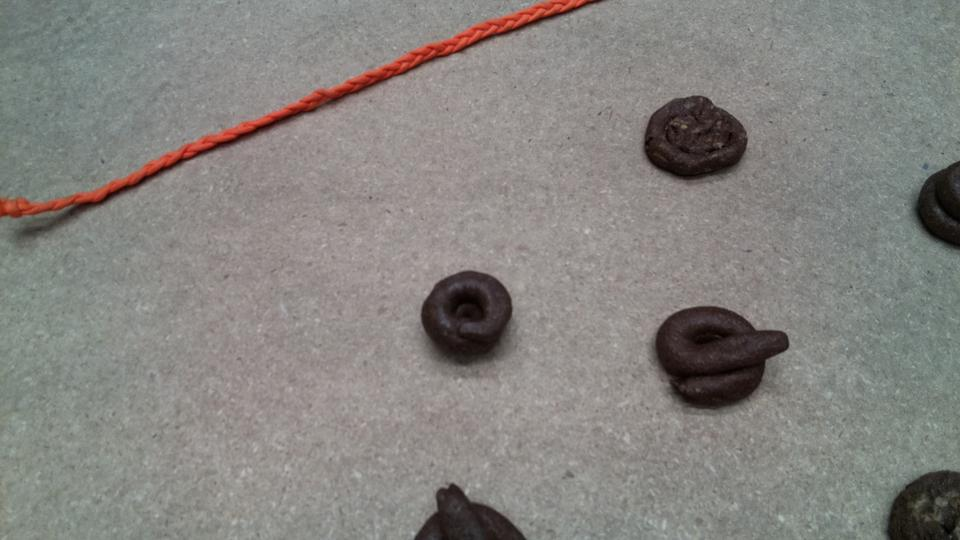poop: (651, 303, 794, 409), (413, 266, 518, 366), (640, 92, 753, 184), (407, 479, 531, 540), (883, 466, 960, 539), (915, 153, 960, 255)
rope: (1, 1, 578, 218)
